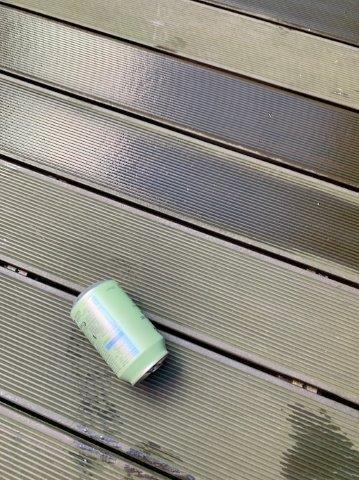kaleng: (74, 280, 166, 384)
